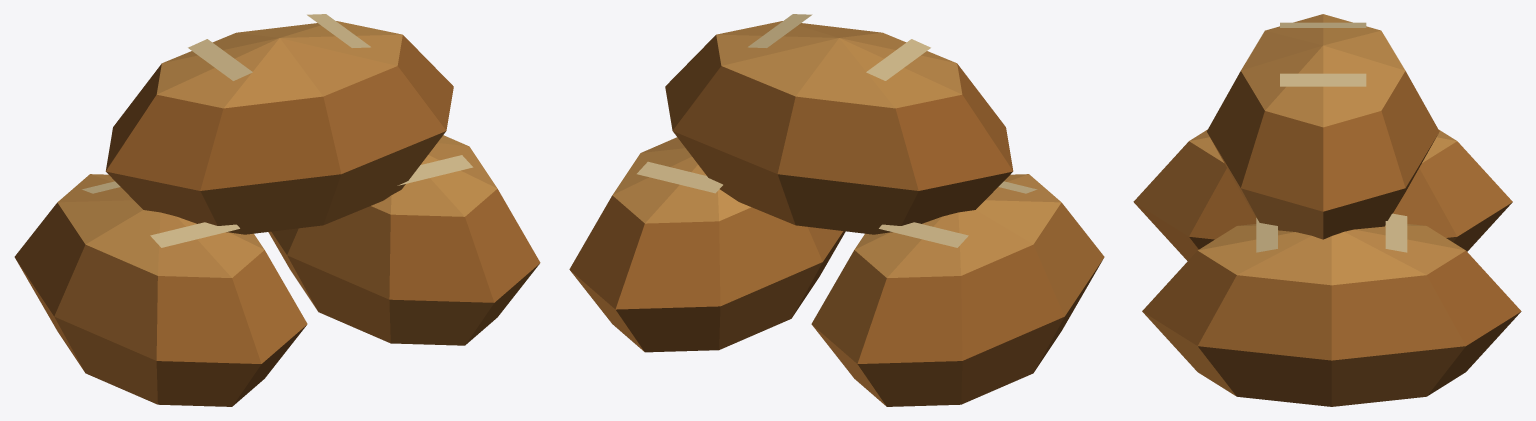
File: storage_wheat_bread.glb
The picture shows the model from 3 angles, left to right: view 1: azimuth 30°, elevation 25°; view 2: azimuth 150°, elevation 25°; view 3: azimuth 270°, elevation 25°; orthographic projection. The views are drawn at different scales.
Visible parts, largest first — view 1: storage_wheat_bread; view 2: storage_wheat_bread; view 3: storage_wheat_bread.
Boxes of the visible parts, <box> form: storage_wheat_bread: <box>14,14,540,406</box>; storage_wheat_bread: <box>569,14,1104,406</box>; storage_wheat_bread: <box>1133,14,1521,406</box>.
Bounding box in the file's own units: 1.14 × 0.76 × 0.9.
